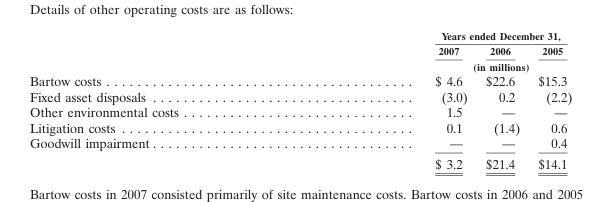table: (28, 28, 571, 171)
table column: (28, 28, 306, 171), (306, 28, 475, 171), (475, 28, 528, 171), (528, 28, 571, 171)
table column header: (28, 28, 571, 72)
table row: (28, 152, 571, 171), (28, 134, 571, 152), (28, 42, 571, 58), (28, 72, 571, 88), (28, 103, 571, 119), (28, 88, 571, 103), (28, 119, 571, 134), (28, 28, 571, 42), (28, 58, 571, 72)
table spanning cell: (306, 28, 571, 42), (306, 58, 571, 72)
